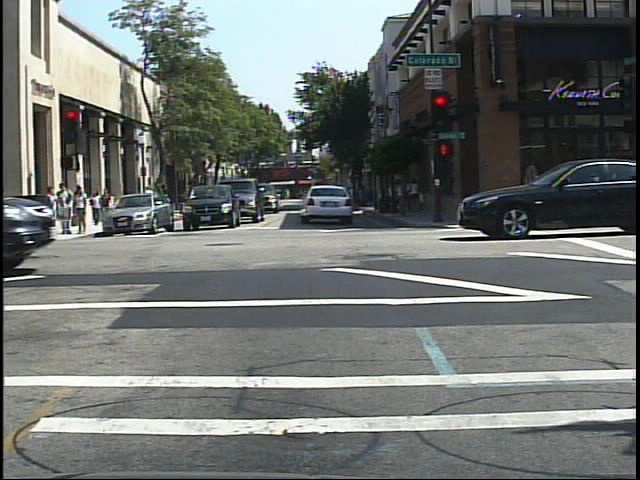person: (155, 180, 173, 216), (89, 189, 104, 229), (140, 183, 158, 214)
